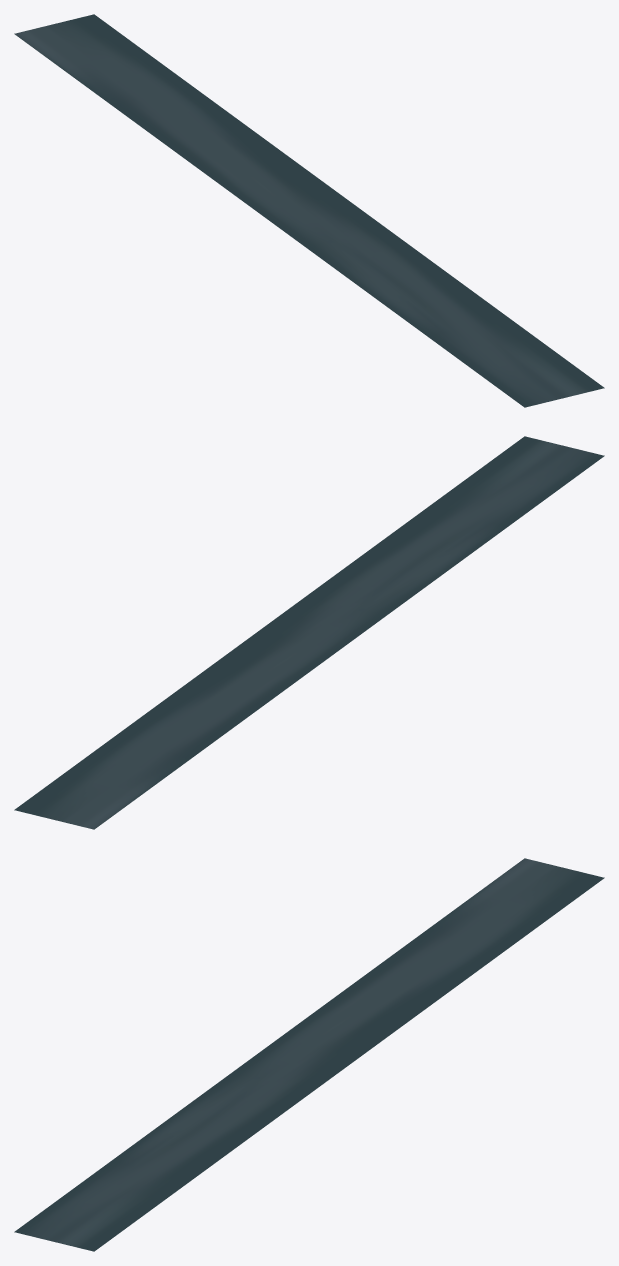
File: Fondo olas atras.glb
3 views of the same model, one above another, from view 1: azimuth 30°, elevation 25°; view 2: azimuth 150°, elevation 25°; view 3: azimuth 330°, elevation 25° (orthographic).
Visible parts, largest first — view 1: Plane; view 2: Plane; view 3: Plane.
Part boxes in pixels (x1,y1,x2,y2): Plane: [14, 14, 604, 407]; Plane: [14, 436, 604, 829]; Plane: [14, 858, 604, 1251].
Bounding box in the file's own units: 10 × 0 × 110.
